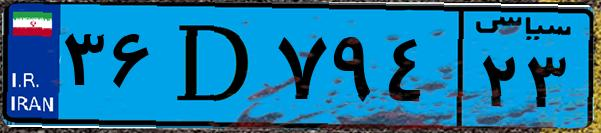2: (475, 38, 525, 113)
3: (57, 26, 110, 100), (525, 38, 570, 115)
4: (385, 28, 445, 110)
6: (110, 28, 158, 98)
7: (270, 28, 330, 110)
9: (330, 28, 385, 110)
D: (158, 12, 270, 120)
